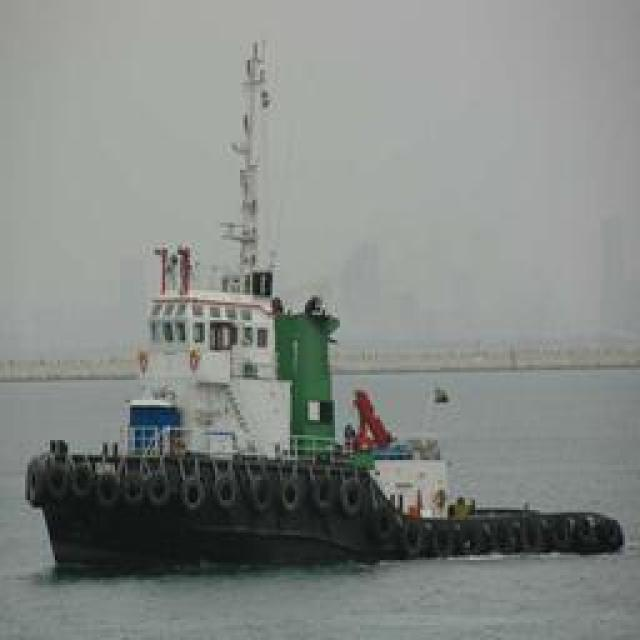CIV_Ship: (20, 194, 500, 568)
